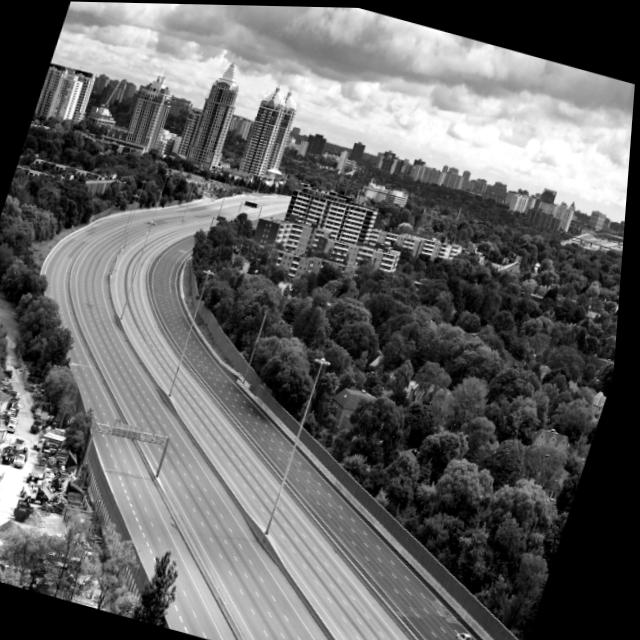cleat: (0, 87, 628, 640)
